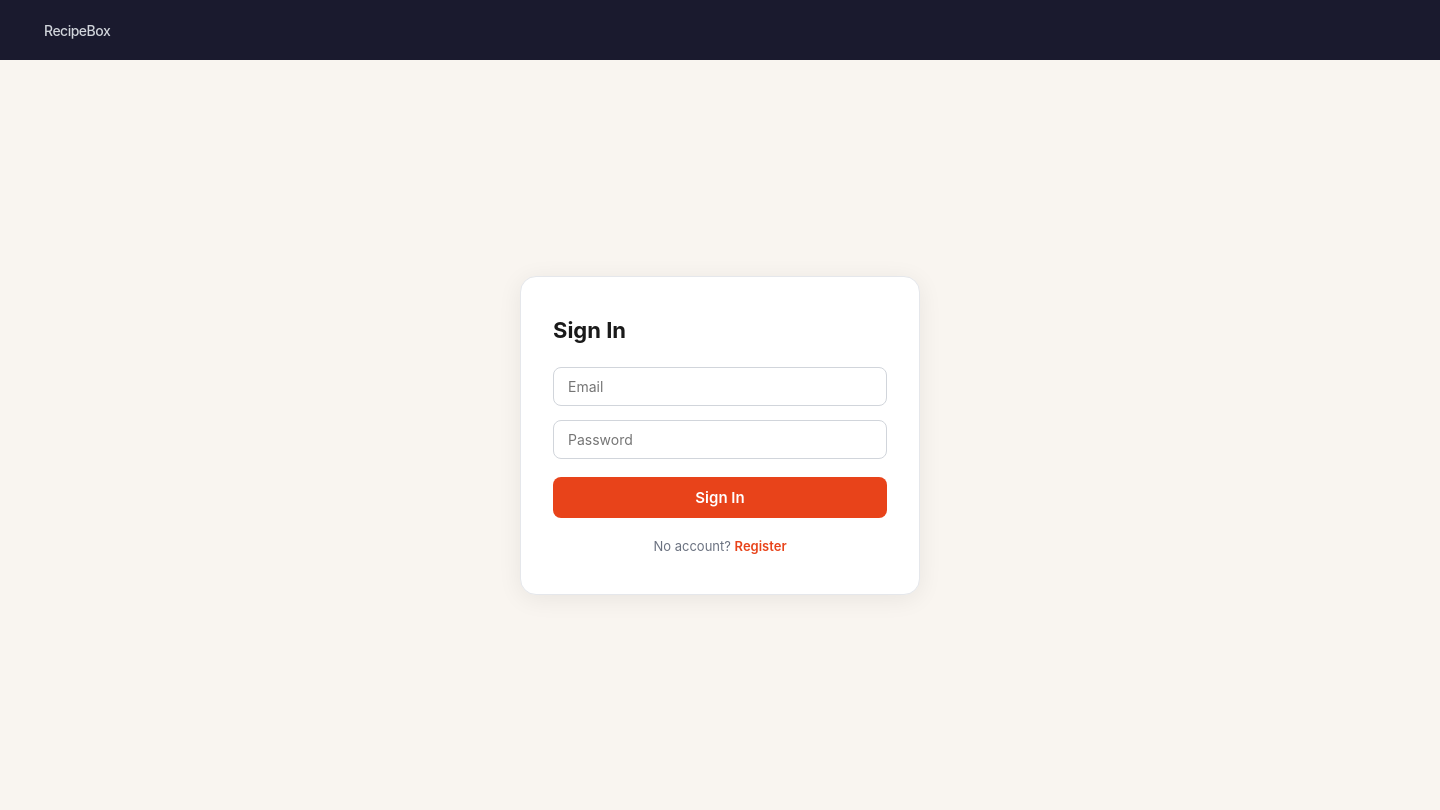
Test case: shows the saved cookbook page from saved and recipes endpoints
Step 1. Type "janice@email.com" into the field with placeholder "Email" → coordinates (720, 386), box [553, 366, 887, 406]
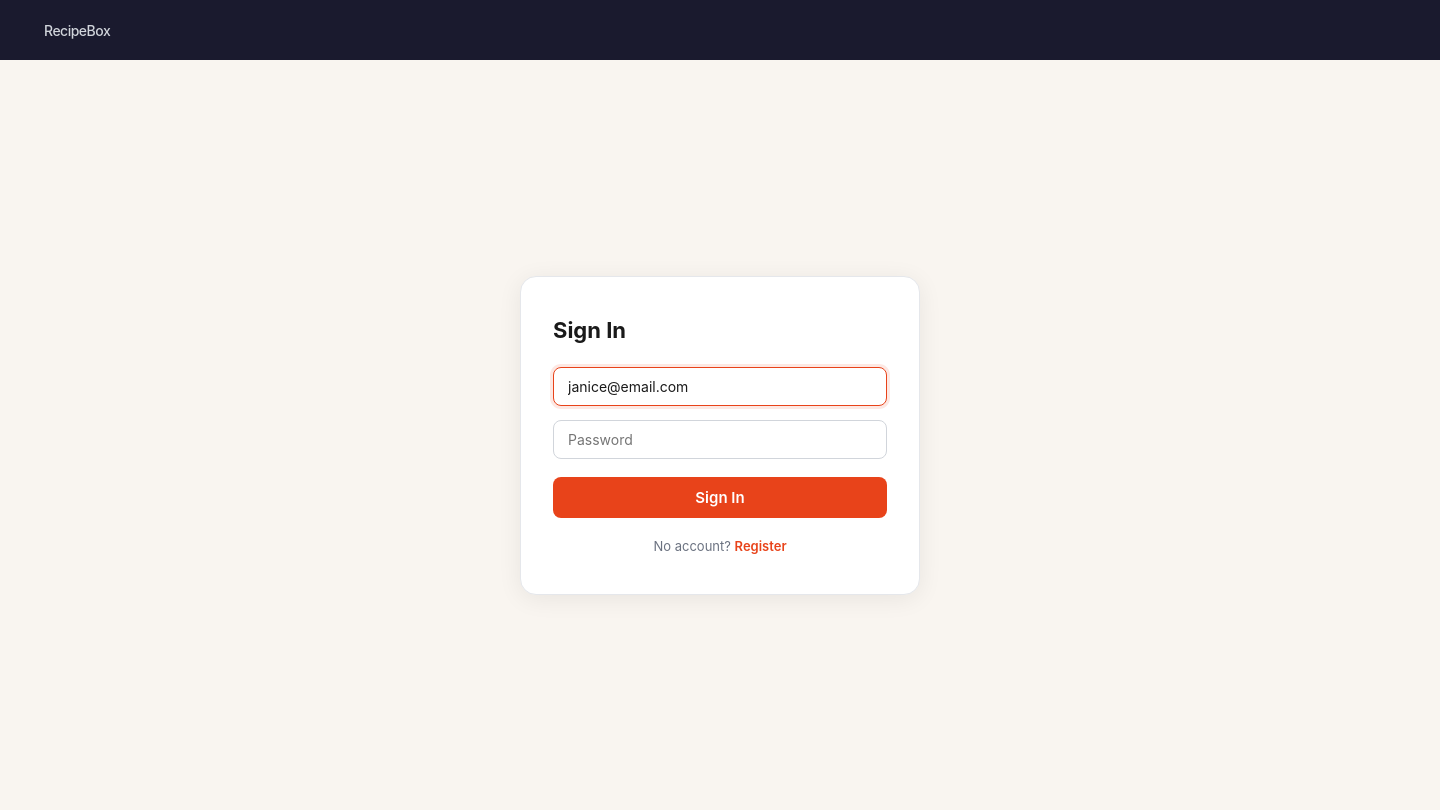
Step 2. Type "password123" into the password field with placeholder "Password" → coordinates (720, 439), box [553, 420, 887, 458]
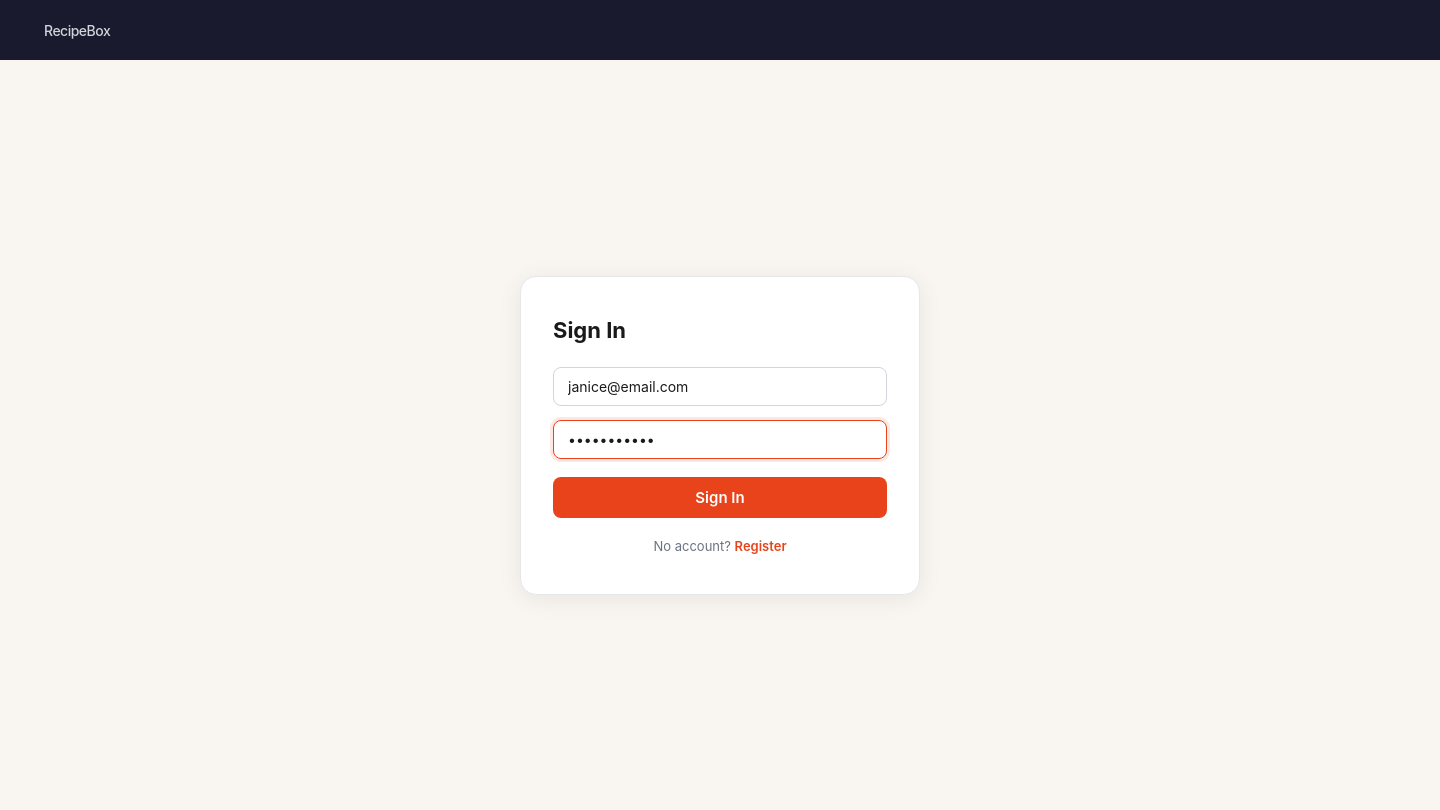
Step 3. Click the button "Sign In" → coordinates (720, 497), box [553, 476, 887, 518]
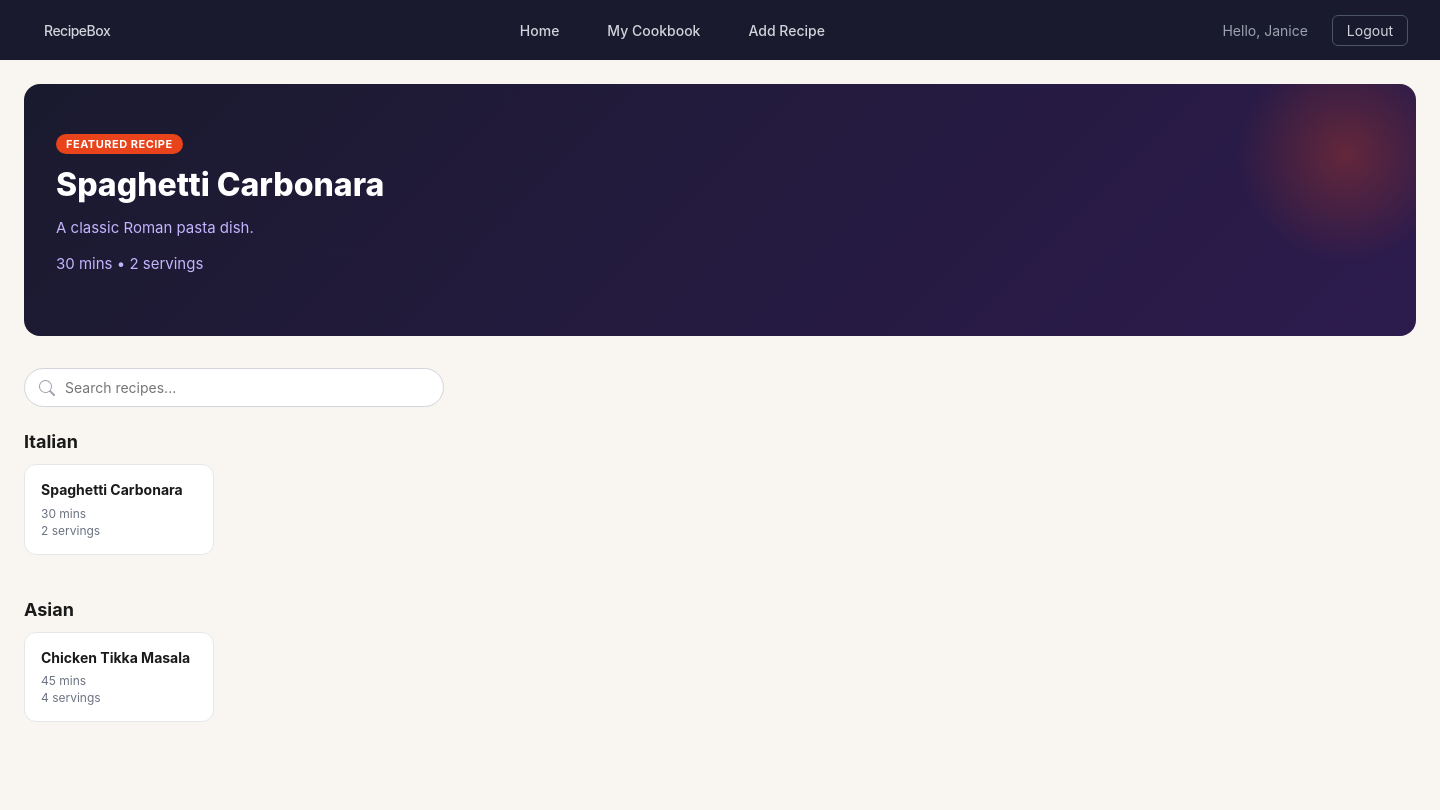
Step 4. Click the link "My Cookbook" → coordinates (654, 30), box [607, 22, 700, 38]
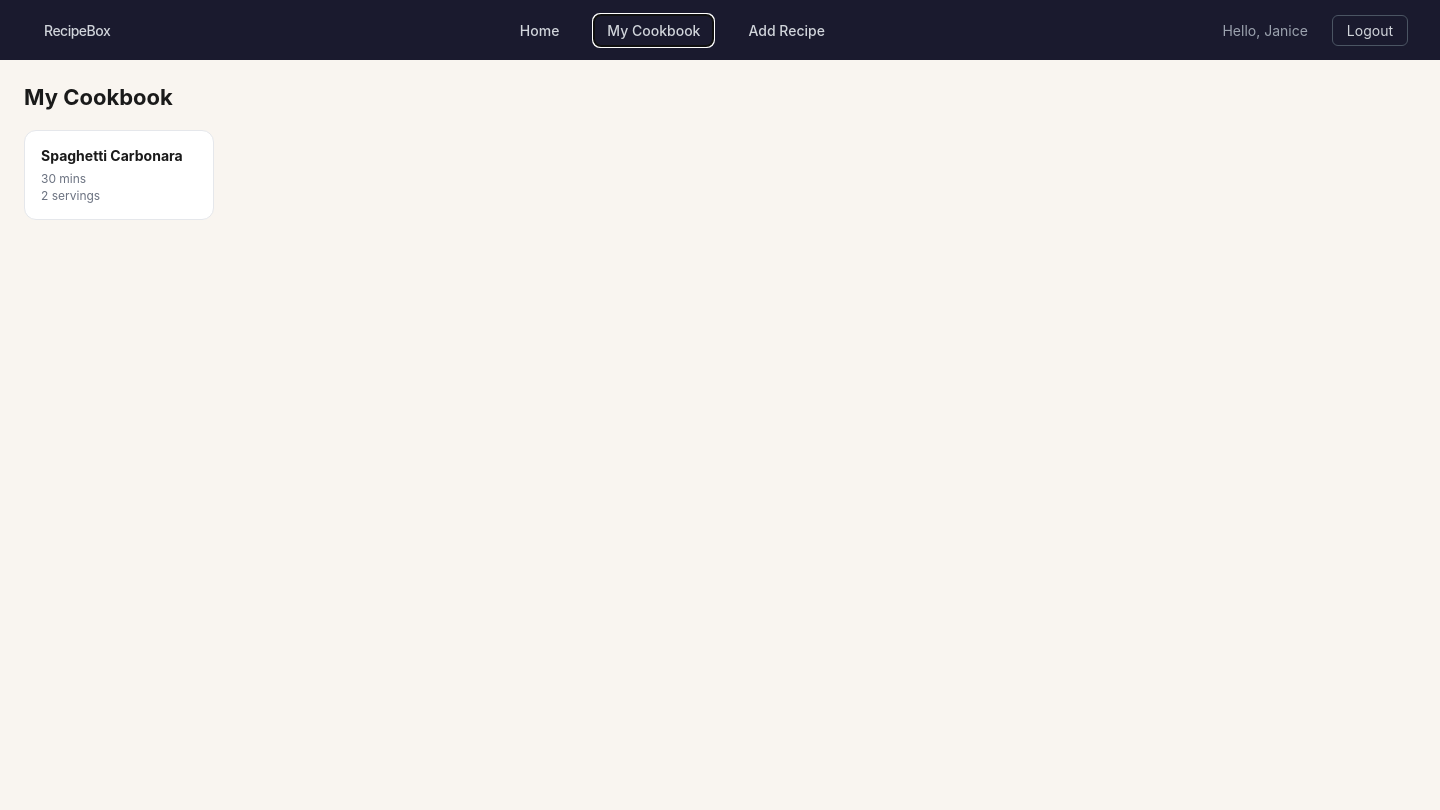
Expected: the heading "Spaghetti Carbonara" is shown, [41, 147, 197, 165]
Expected: the heading "My Cookbook" is shown, [24, 84, 173, 110]
Expected: the heading "Chicken Tikka Masala" is gone
